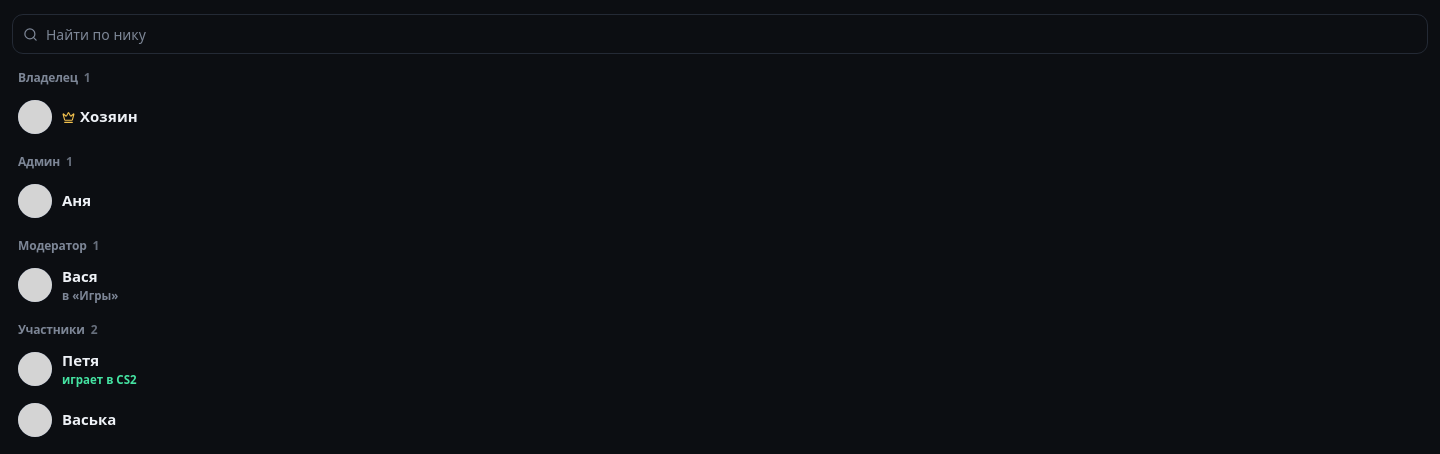
Test: People › the page of people groups them by top role and finds them by name
The image size is (1440, 454).
Later steps or results of the test are not shown.
Expected: the text "в «Игры»" is shown, [62,288,118,302]
Expected: the text "играет в CS2" is shown, [62,372,137,386]
Type "вас" into the field with placeholder "Найти по нику" at (736, 34), box [46,15,1427,53]
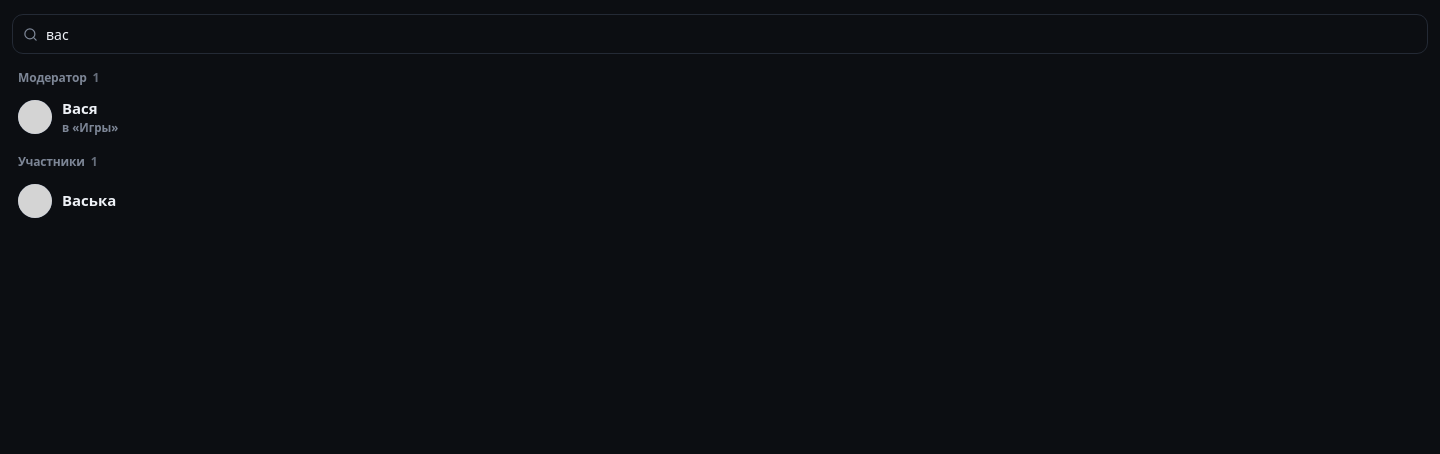
Expected: the text "Вася" is shown, [62,98,98,118]
Expected: the button "Аня" is gone
